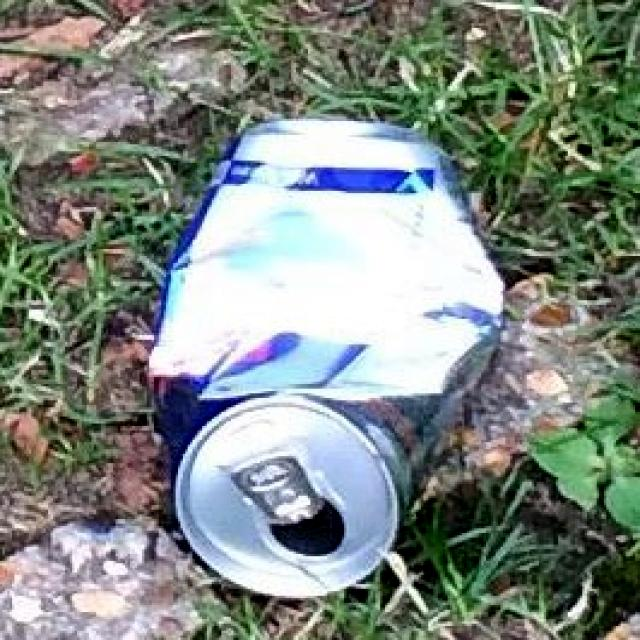Metal: (132, 111, 510, 607)
